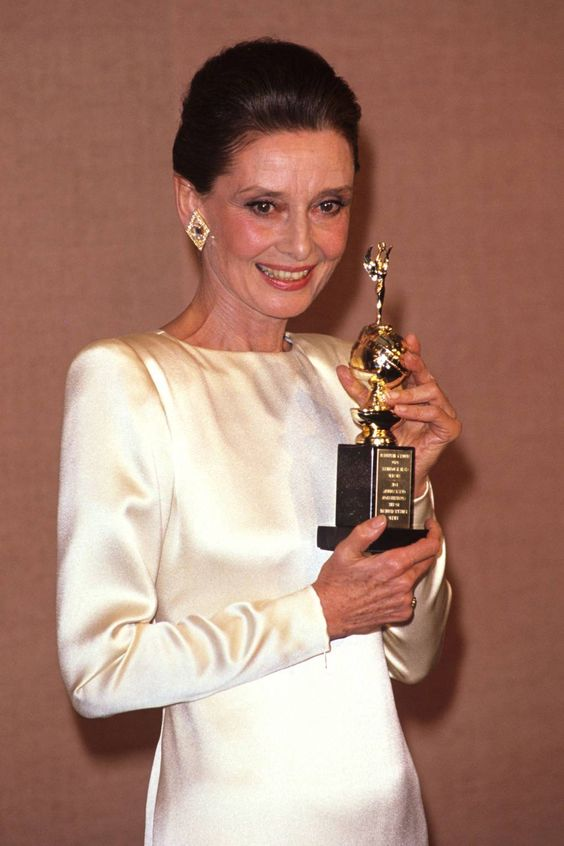hand: (322, 519, 437, 617)
